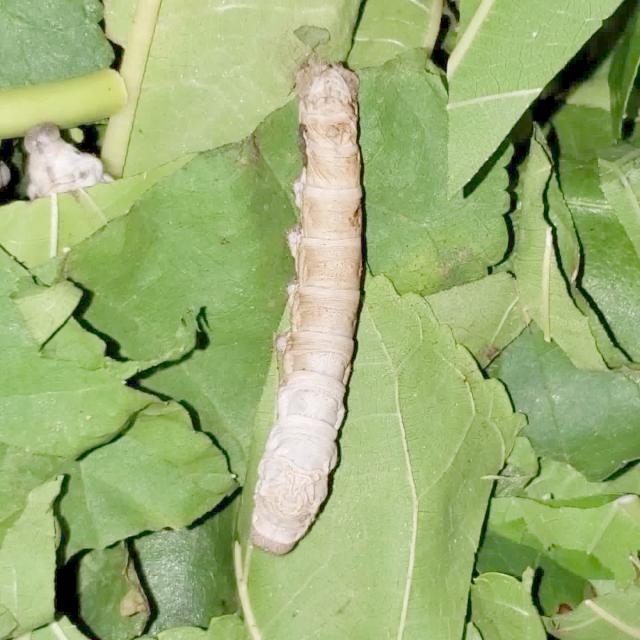Grasserie: (208, 37, 394, 564)
